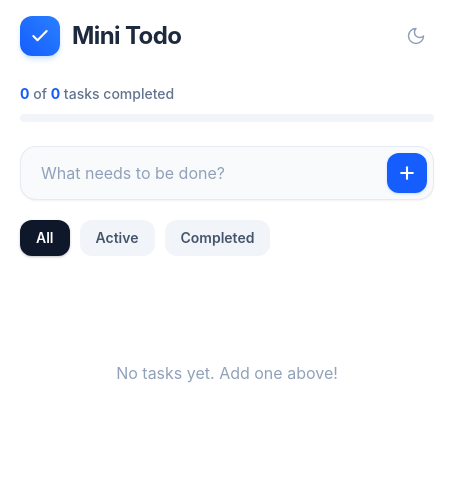
CRUD — Delete Task › deletes a task when the delete button is clicked
Type "Task to delete" into the field with placeholder "What needs to be done?".
click(214, 173); type("Task to delete")  # box [41,157,387,189]
Then press Enter
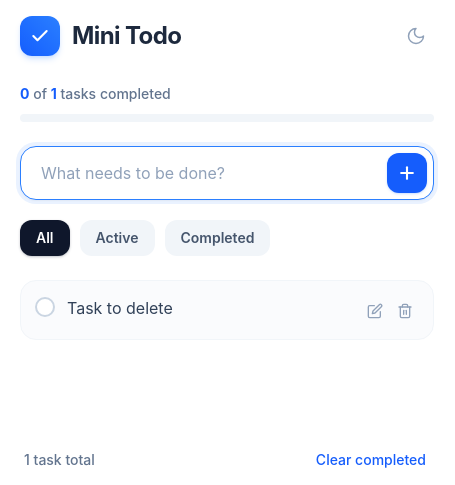
Click the button named "delete \"Task to delete\"".
click(405, 311)  # box [391,297,419,325]
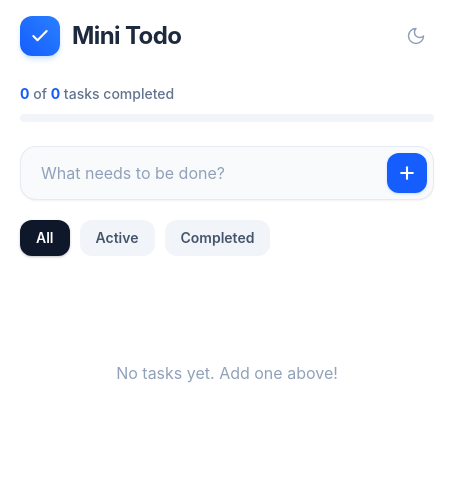
expect the text "Task to delete" is gone: met
